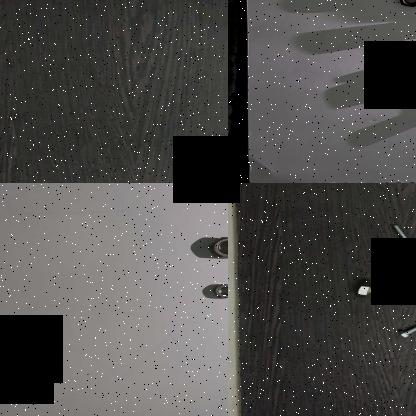Bolts: (350, 278, 408, 300), (389, 221, 416, 250), (395, 317, 416, 339)
NUTS: (206, 234, 228, 262), (200, 151, 228, 169), (203, 281, 228, 300), (394, 0, 416, 7)
